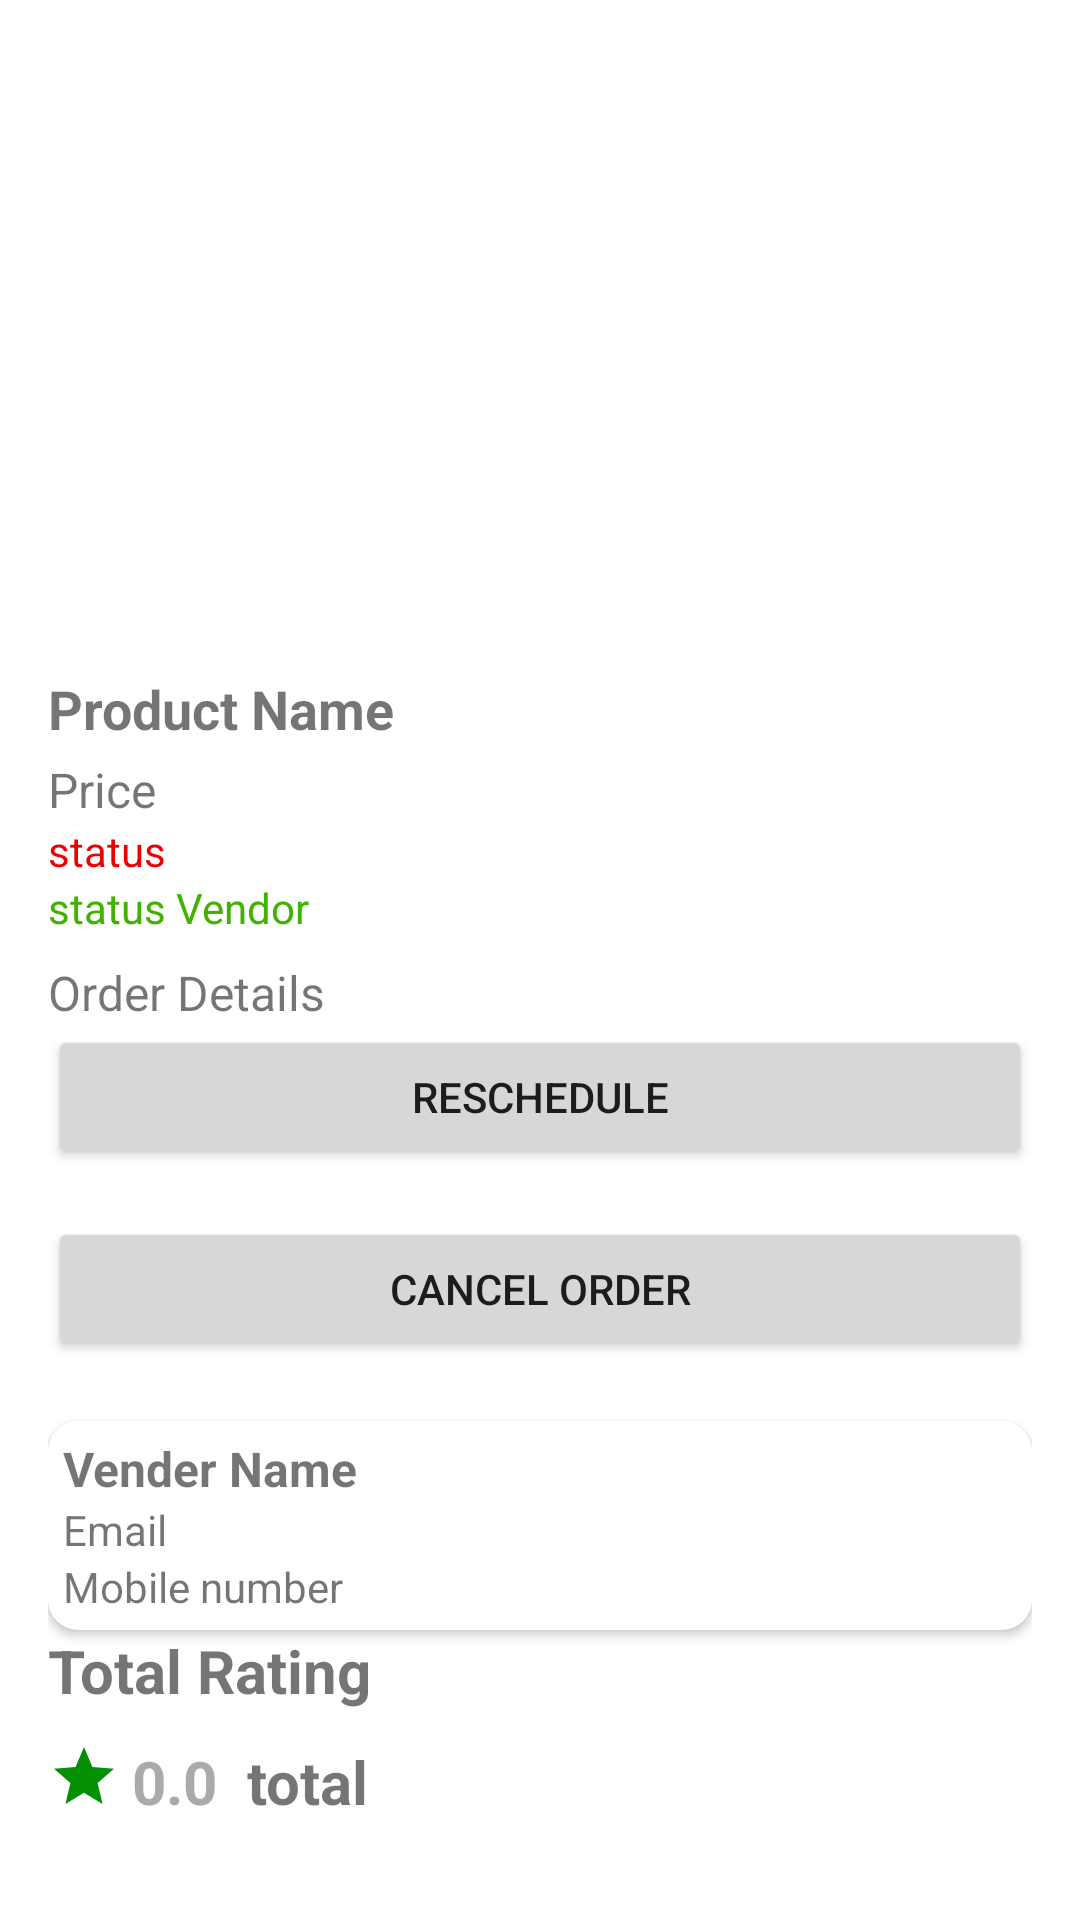

Screen size 1080x1920. Icon name, then its center in pixels as [x,y]:
star rate: [84,1775]
